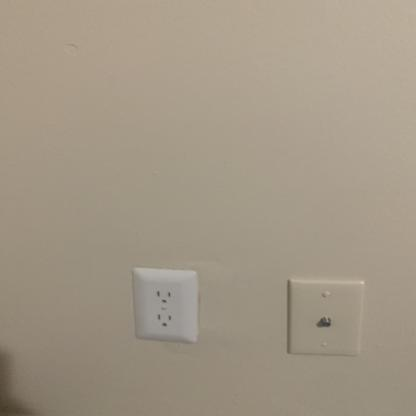OUTLET: (132, 265, 200, 344)
